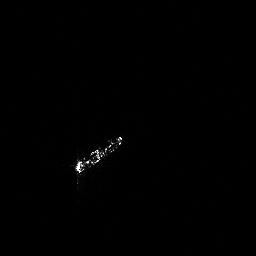ship: (71, 132, 127, 180)
